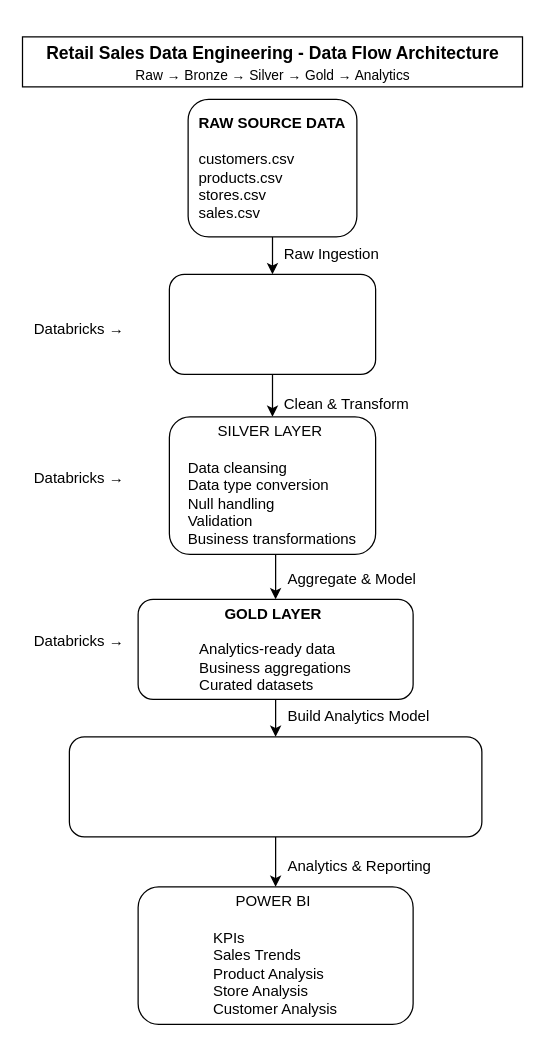
The diagram is 544 pixels wide and 1046 high, and some of its shapes have lost their labels. The centre of each missing label's shape, as x and y in pixels:
"BRONZE LAYER Raw ingested data Source structure preserved Minimal transformation" goes at (x=272, y=323).
"FactSales DimCustomer DimProduct DimStore SalesSummary" goes at (x=275, y=786).
